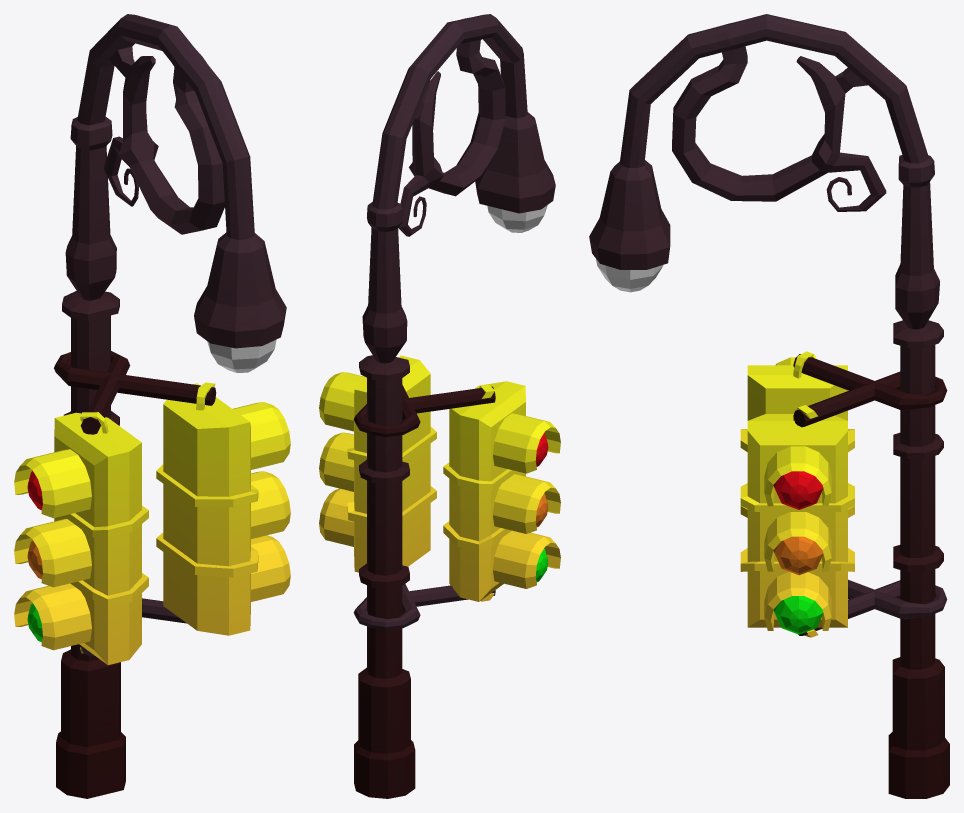
Rendered from Lamp post.fbx.
3 views of the same model, side by side, from view 1: azimuth 30°, elevation 25°; view 2: azimuth 150°, elevation 25°; view 3: azimuth 270°, elevation 25° (orthographic). The views are drawn at different scales.
Visible parts, largest first — view 1: Lamp post, Traffic light B, Traffic light A; view 2: Lamp post, Traffic light A, Traffic light B; view 3: Lamp post, Traffic light B, Traffic light A.
Part boxes in pixels (x1,y1,x2,y2): Lamp post: (56, 14, 286, 798); Traffic light B: (54, 352, 290, 635); Traffic light A: (14, 351, 148, 664); Lamp post: (354, 14, 555, 798); Traffic light A: (353, 381, 560, 627); Traffic light B: (319, 355, 436, 630); Lamp post: (589, 14, 949, 798); Traffic light B: (740, 371, 946, 637); Traffic light A: (740, 351, 946, 619).
Bounding box in the file's own units: 1396 × 4385 × 1861.
